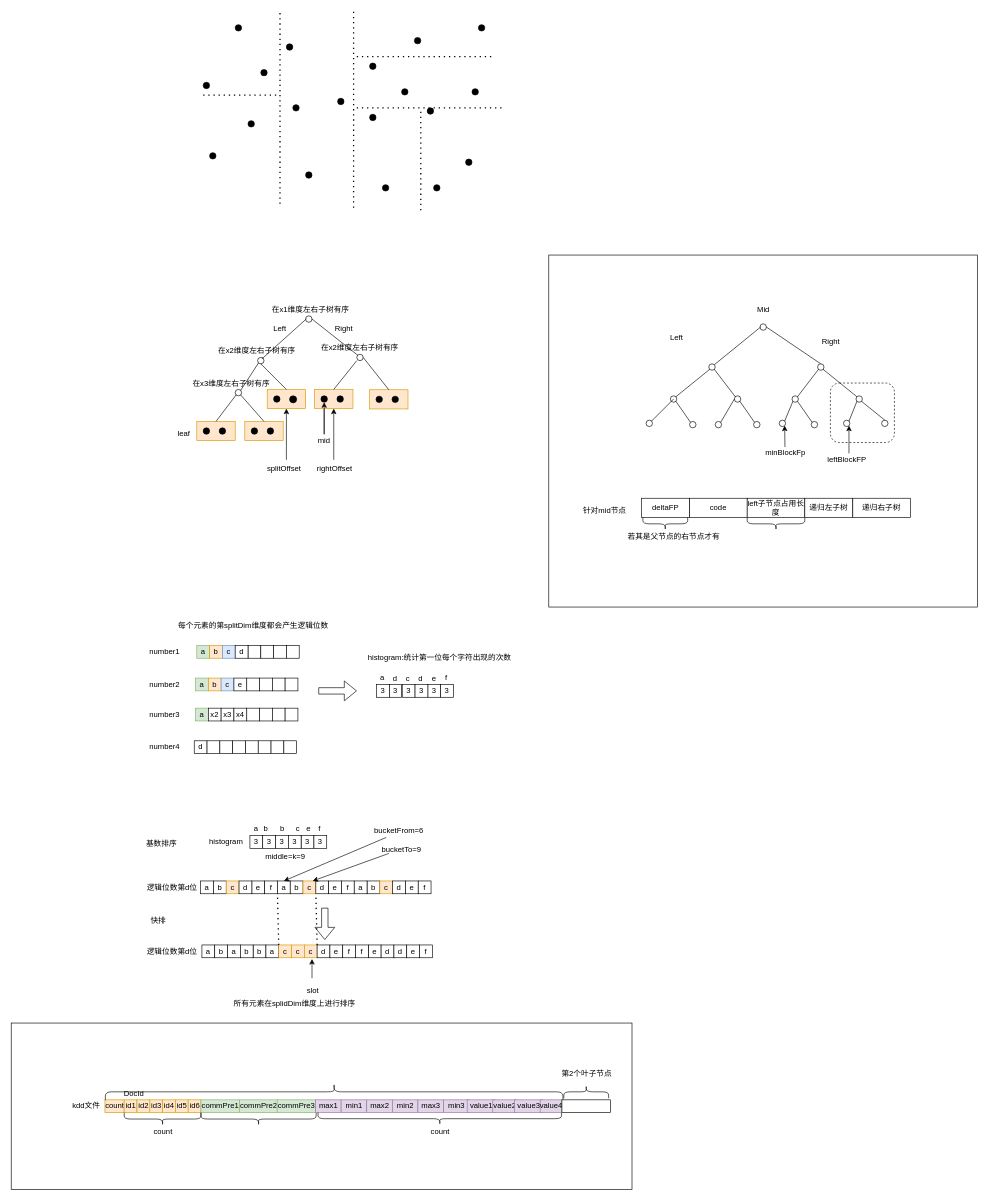
This 989x1201 diagram has some shape labels left out. The shapes that lost their labels are listed below. From the top down, each one's box as (x1, y1, x2, y2) in pixels, then its label:
(830, 382, 894, 443): node1
(105, 1083, 563, 1100): 第1个叶子节点
(200, 1112, 316, 1125): numDataDims
